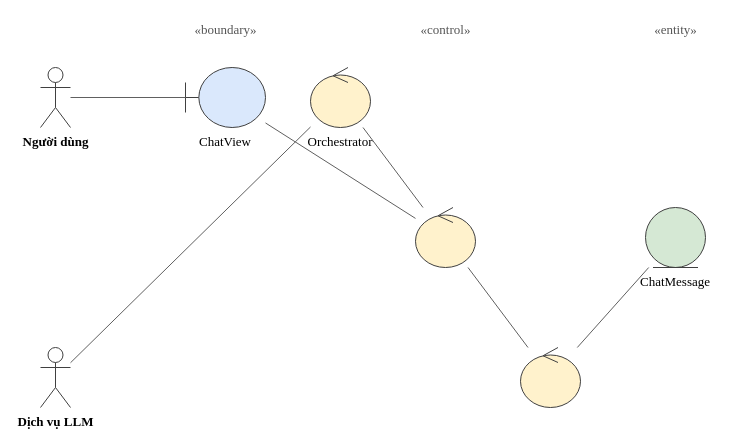
This 752x447 diagram has some shape labels left out. Each missing label, with the centre of its shape:
AgentWorkflow: the point at 445,237
SessionMemory: the point at 550,377
